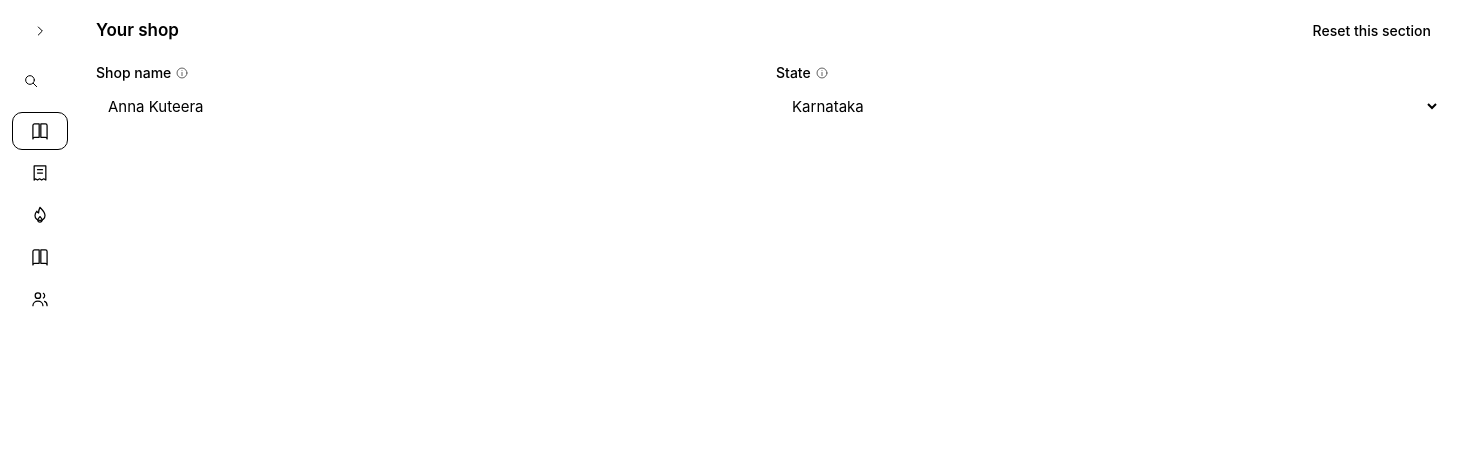
the settings screen › shows a section it may not change rather than hiding it
Expected: the field labelled "Shop name" is shown, [96,87,760,125]
Click the button named "The bill".
click(40, 173)  # box [12,154,68,192]
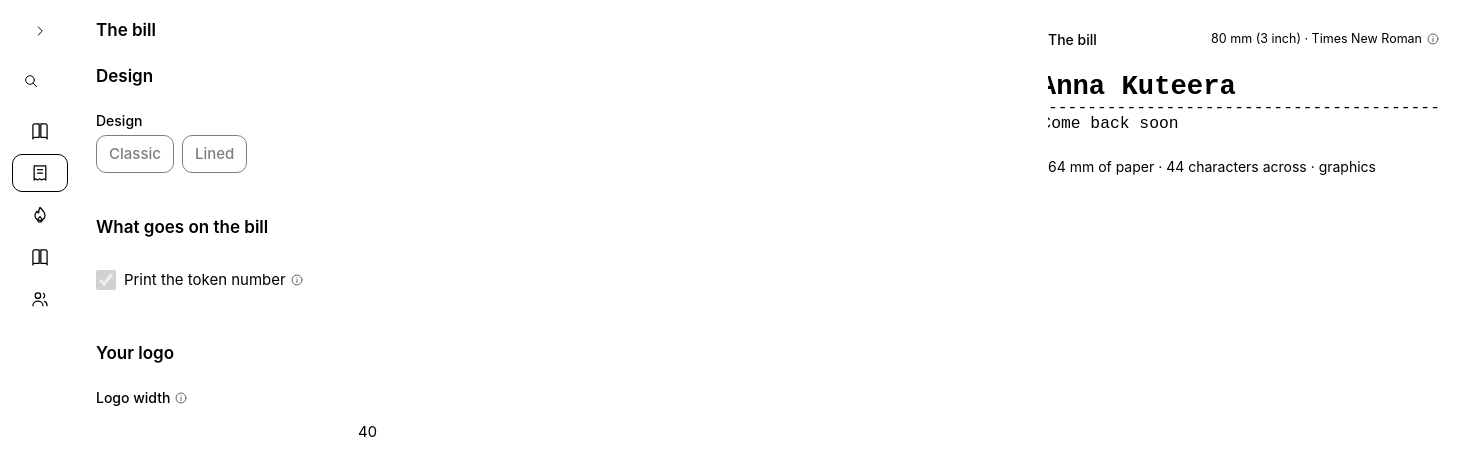
Now the checkbox labelled "Print the token number" is disabled, box [96,270,116,290]
Now the button "Reset this section" is gone
